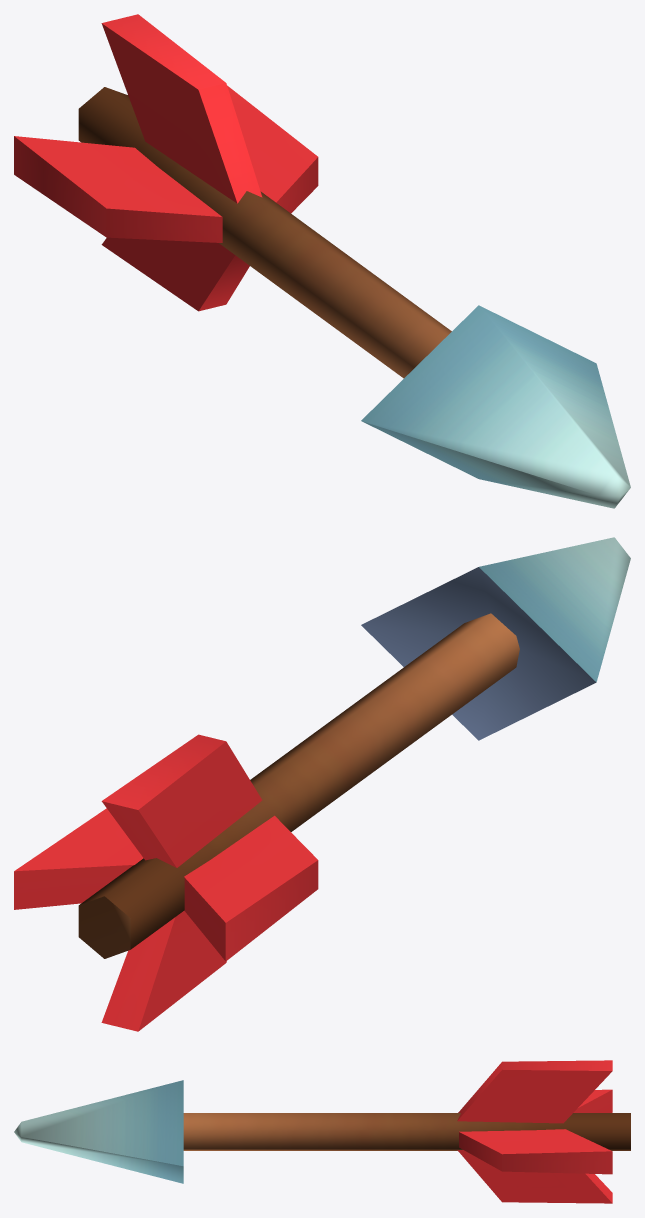
Rendered from Enemy_Skeleton_Arrow_x1_v01.fbx.
The picture shows the model from 3 angles, top to bottom: view 1: azimuth 30°, elevation 25°; view 2: azimuth 150°, elevation 25°; view 3: azimuth 270°, elevation 25°; orthographic projection. The views are drawn at different scales.
Visible parts, largest first — view 1: Enemy_Skeleton_Arrow_x1; view 2: Enemy_Skeleton_Arrow_x1; view 3: Enemy_Skeleton_Arrow_x1.
Boxes of the visible parts, bbox=[...] form: Enemy_Skeleton_Arrow_x1: bbox=[14, 14, 630, 508]; Enemy_Skeleton_Arrow_x1: bbox=[14, 537, 630, 1031]; Enemy_Skeleton_Arrow_x1: bbox=[14, 1060, 630, 1203].
Bounding box in the file's own units: 29.12 × 26.16 × 110.
